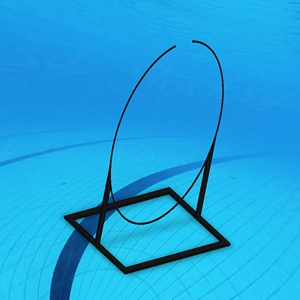circle: (62, 38, 232, 276)
